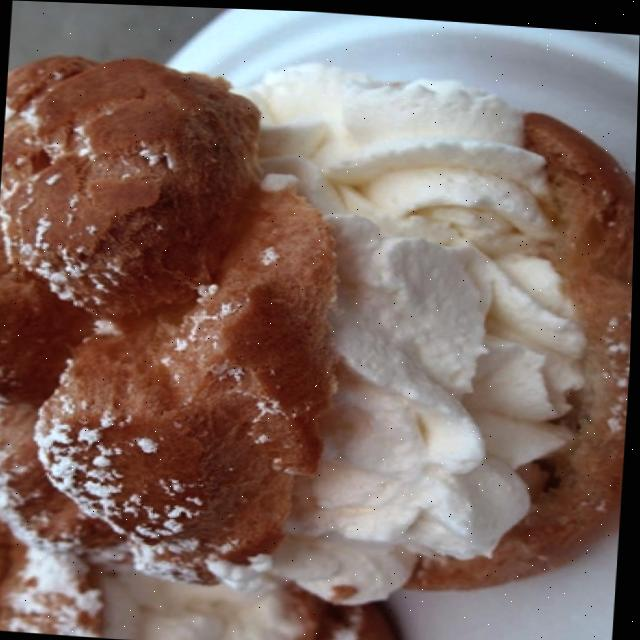炸货点心: (0, 29, 639, 640)
蛋糕甜品: (0, 29, 639, 640)
